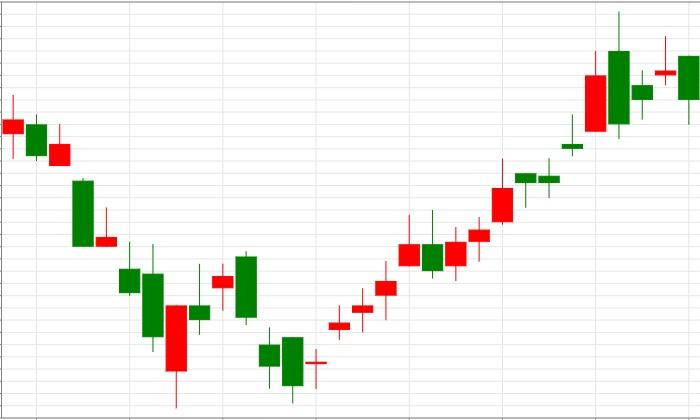bearish_engulfing_fall: (281, 12, 630, 404), (165, 251, 257, 408)
